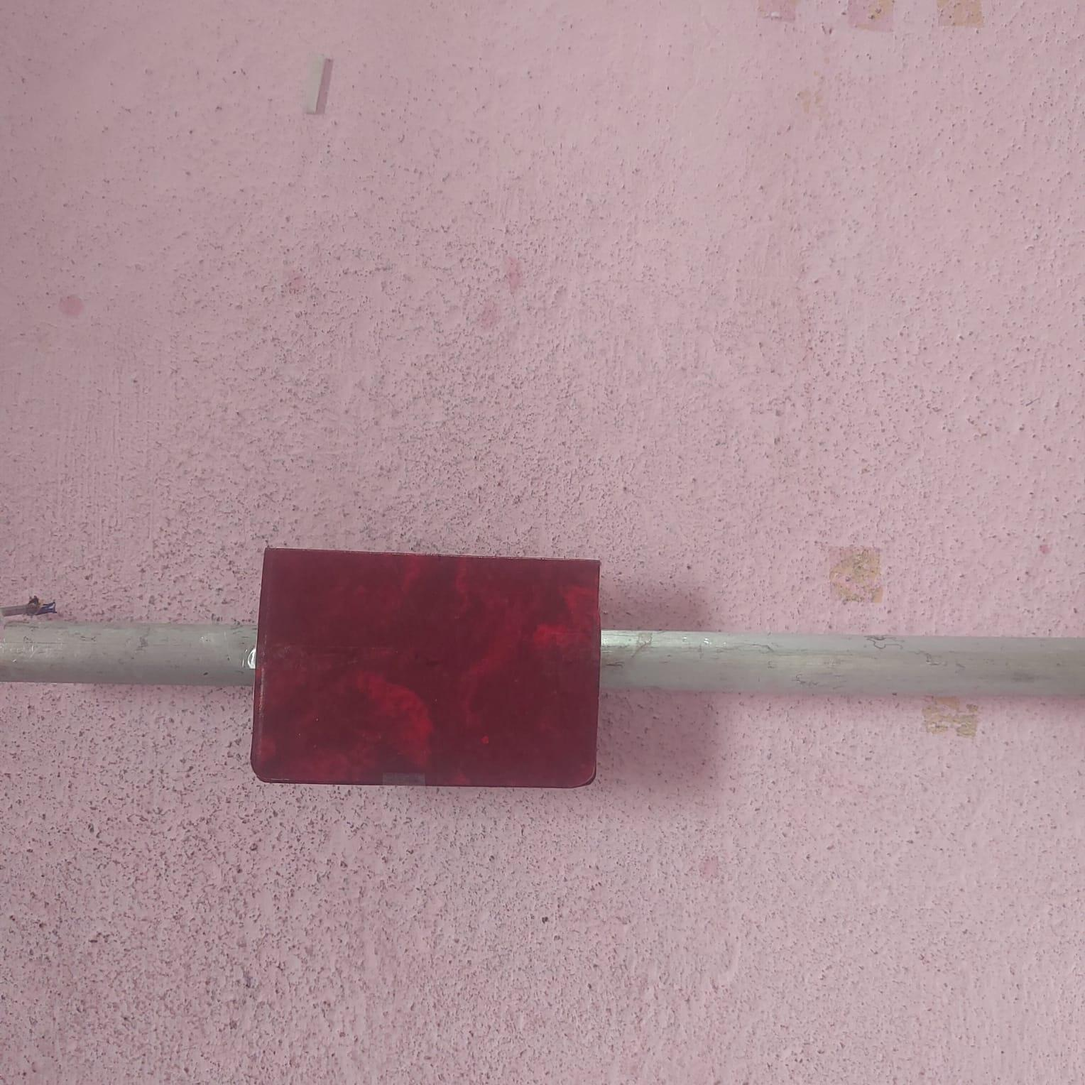wallet: (260, 548, 608, 791)
